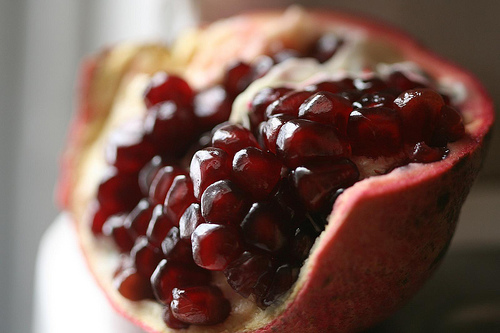pomogranate: (60, 11, 492, 332)
